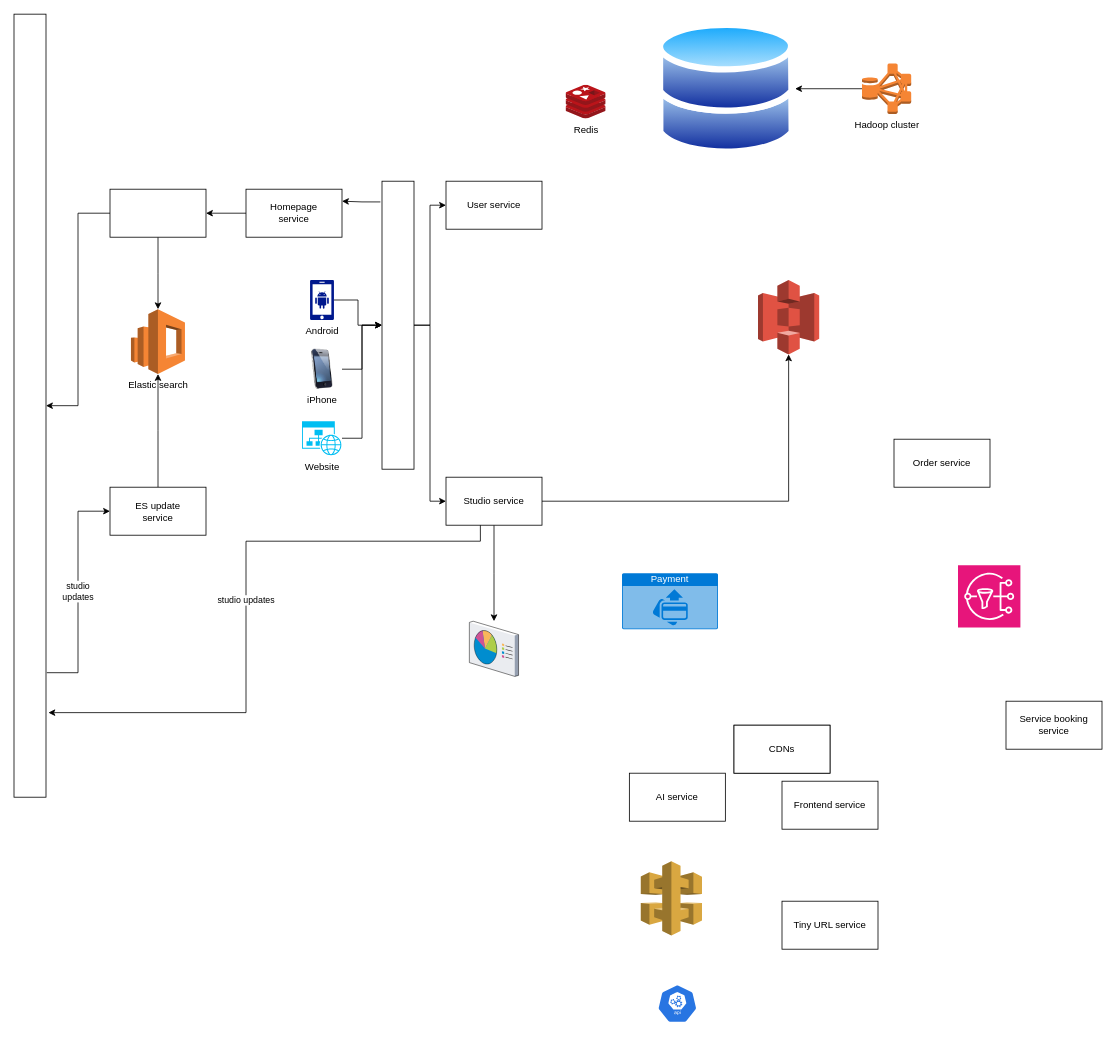
Some shapes in this 1116 by 1054 pixel diagram are drawn without their labels. Here are the shapes that lost their labels. From the top down, the box of each, then its label:
(657, 21, 795, 156): MySQL
(109, 188, 206, 237): Search service
(381, 180, 414, 469): Gateway
(757, 279, 819, 354): Amazon S3 bucket
(13, 13, 46, 797): Kafka
(957, 564, 1020, 628): Simple notification service
(469, 621, 518, 676): Reporting
(640, 860, 702, 936): API gateway
(657, 984, 697, 1023): APIs
